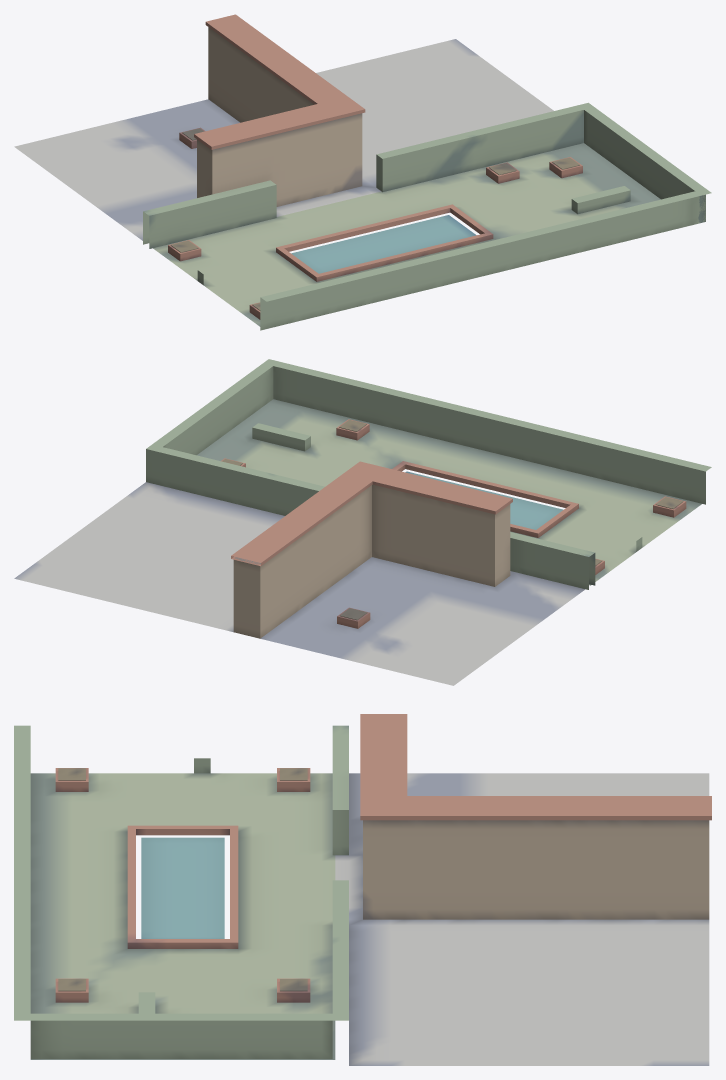
The picture shows the model from 3 angles, top to bottom: view 1: azimuth 30°, elevation 25°; view 2: azimuth 150°, elevation 25°; view 3: azimuth 270°, elevation 25°; orthographic projection. The views are drawn at different scales.
Parts seen in each view (by area): view 1: t; view 2: t; view 3: t.
Part boxes in pixels (bbox=[...]): t: bbox=[14, 14, 711, 330]; t: bbox=[14, 359, 711, 685]; t: bbox=[14, 714, 711, 1065].
Bounding box in the file's own units: 50.4 × 8.35 × 50.4.
